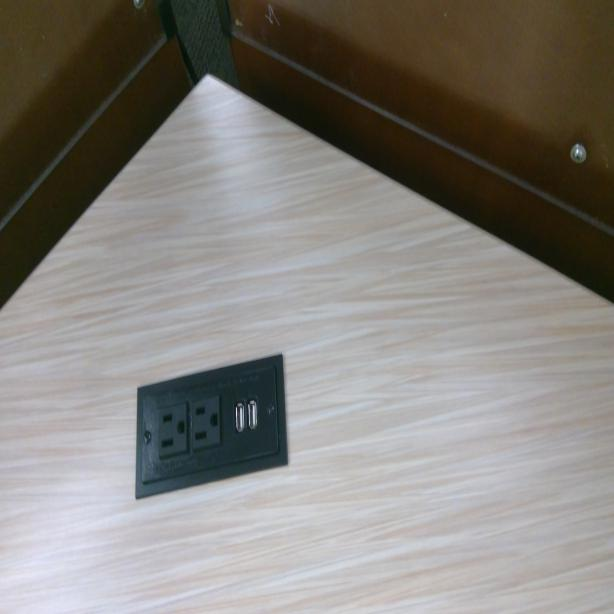typeb: (158, 407, 188, 458), (192, 401, 222, 448)
